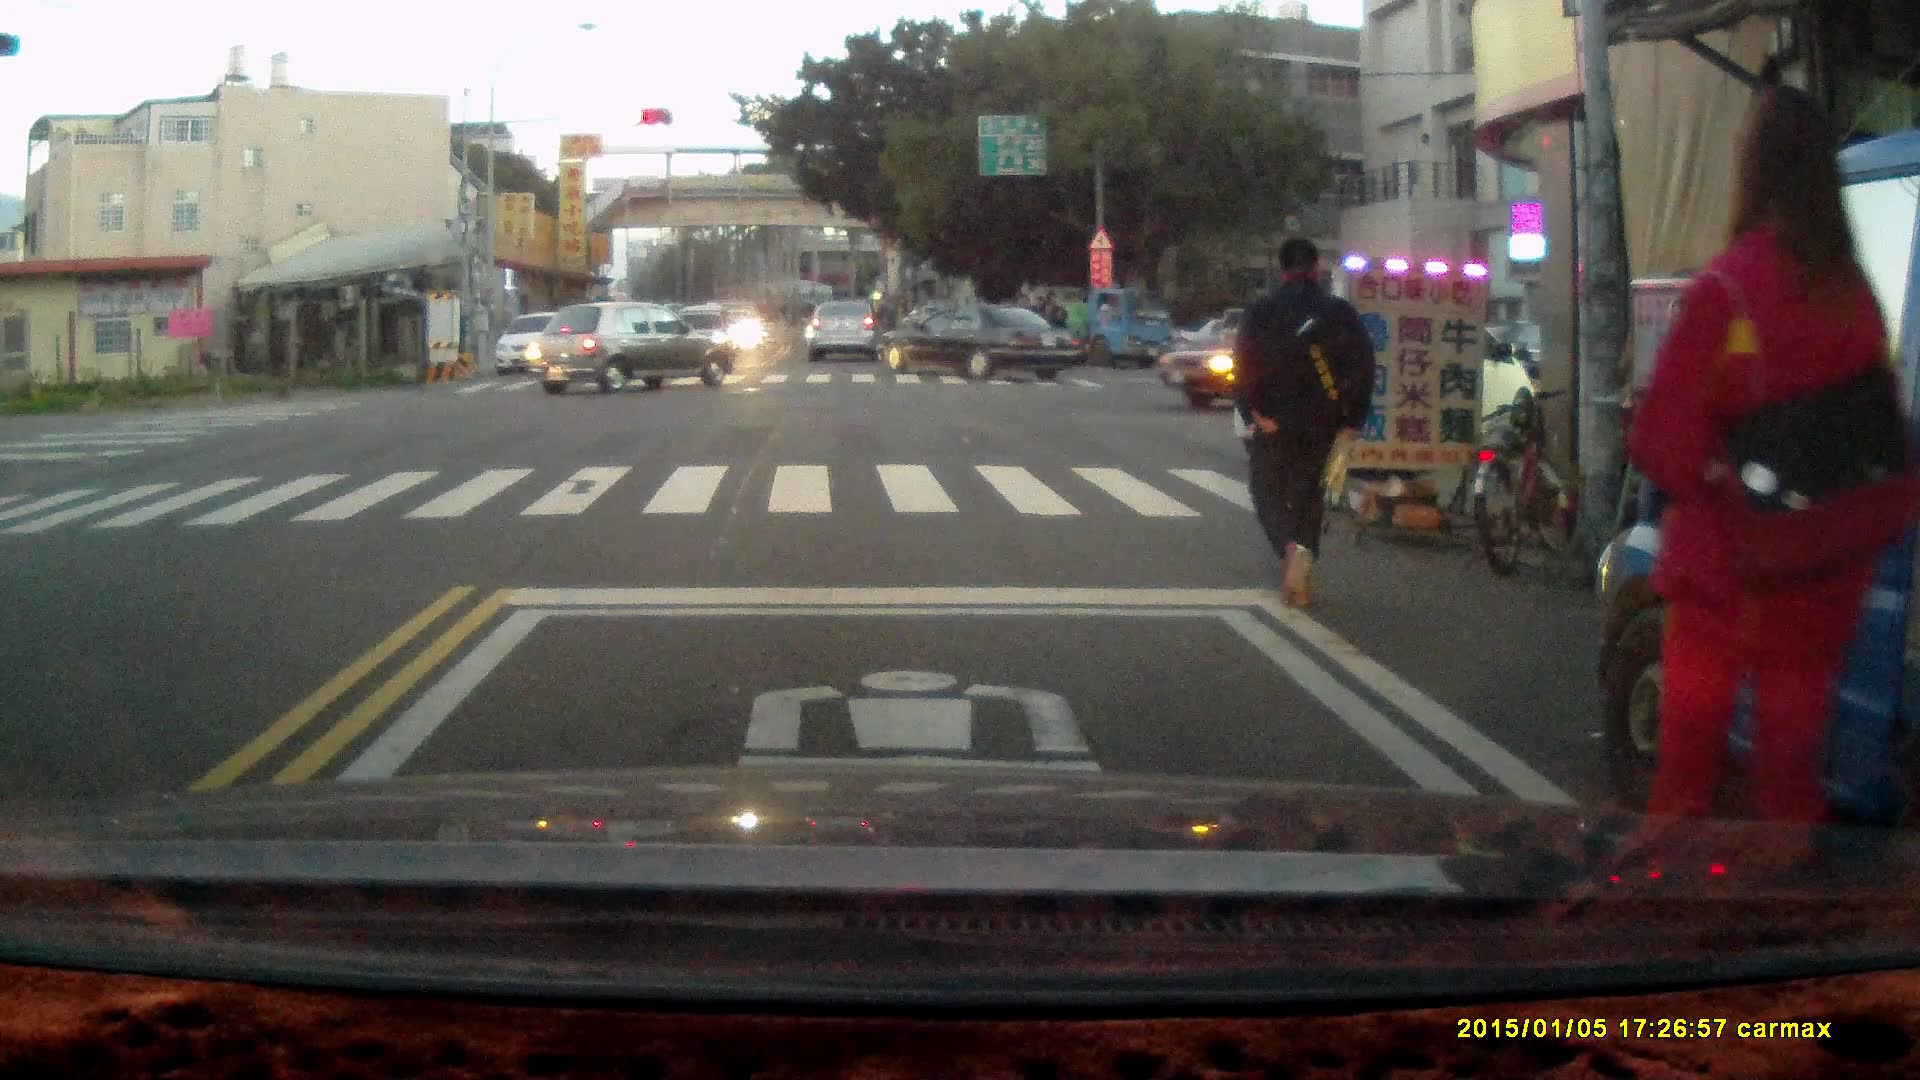pedestrian: (1623, 81, 1918, 859), (1220, 232, 1378, 613), (1039, 287, 1068, 365)
vehicle: (1598, 132, 1920, 853), (1233, 296, 1533, 459), (1157, 305, 1434, 415), (526, 303, 738, 398), (875, 303, 1085, 380), (1002, 284, 1176, 367), (807, 302, 886, 370)
